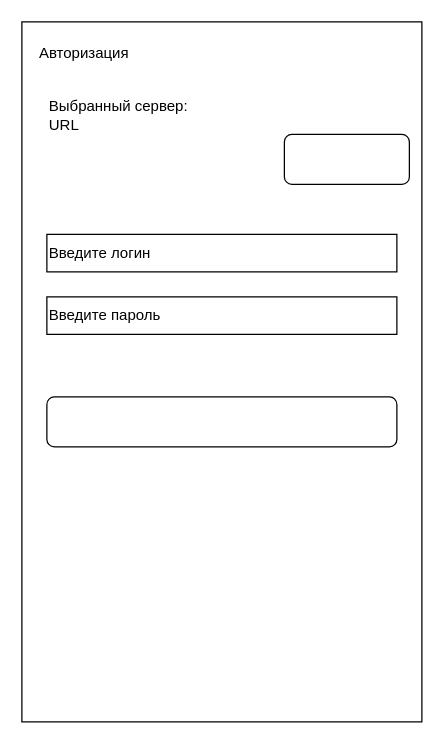
The diagram is 444 pixels wide and 744 high, and some of its shapes have lost their labels. Each missing label, with the centre of its shape:
"Войти" belongs at point 221,421.
"Сменить сервер" belongs at point 346,158.
